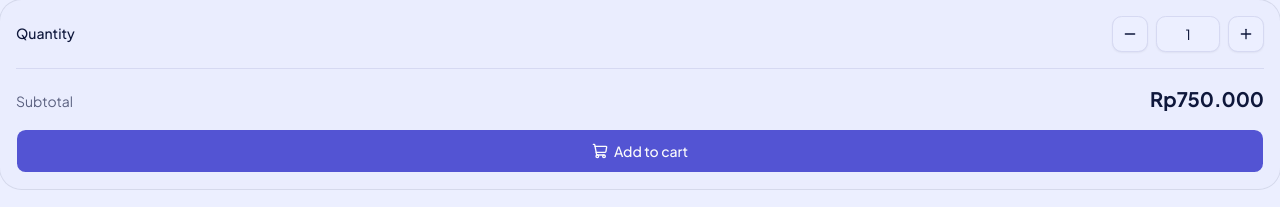
Test case: PurchasePanel - quantity › tombol tambah meningkatkan quantity dan subtotal
This screenshot has width=1280, height=207.
Click the button named "Increase quantity": (1246, 34) x1=1228 y1=16 x2=1264 y2=52
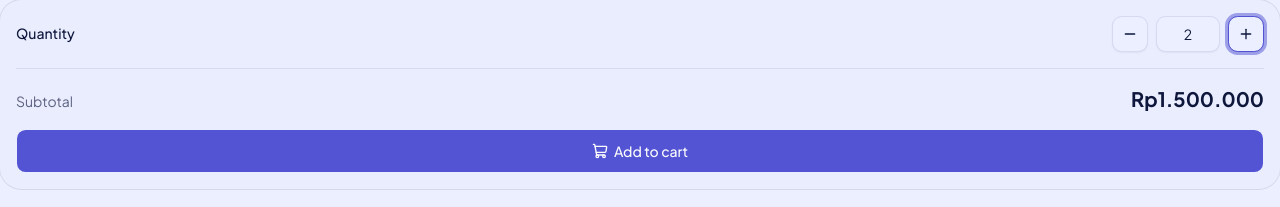
expect the number field labelled "Quantity" holds "2": met, box x1=1156 y1=16 x2=1220 y2=52
